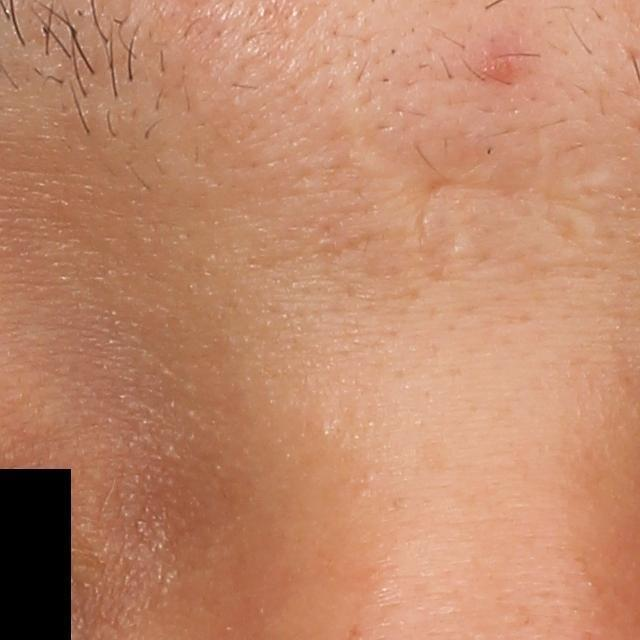other: (357, 121, 613, 282)
papule: (478, 46, 520, 86)
